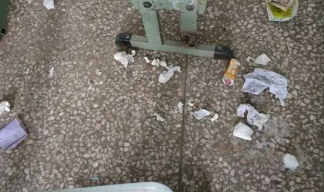garbage: (143, 52, 180, 88), (234, 101, 278, 131), (177, 98, 227, 123), (1, 119, 26, 151), (229, 119, 257, 145), (111, 46, 137, 70), (225, 56, 241, 85), (278, 153, 301, 173), (245, 56, 275, 69), (267, 2, 293, 17), (40, 3, 59, 16), (1, 102, 10, 114)
